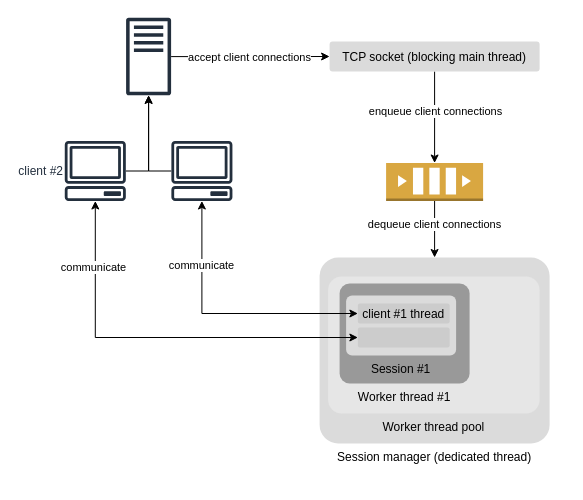
The diagram is 583 pixels wide and 500 high, and some of its shapes have lost their labels. Here are the shapes that lost their labels. From the top down, the centre of each, then its label:
At (x=201, y=170): "client #1".
At (x=434, y=181): "blocking queue".
At (x=403, y=337): "client #2 thread".
